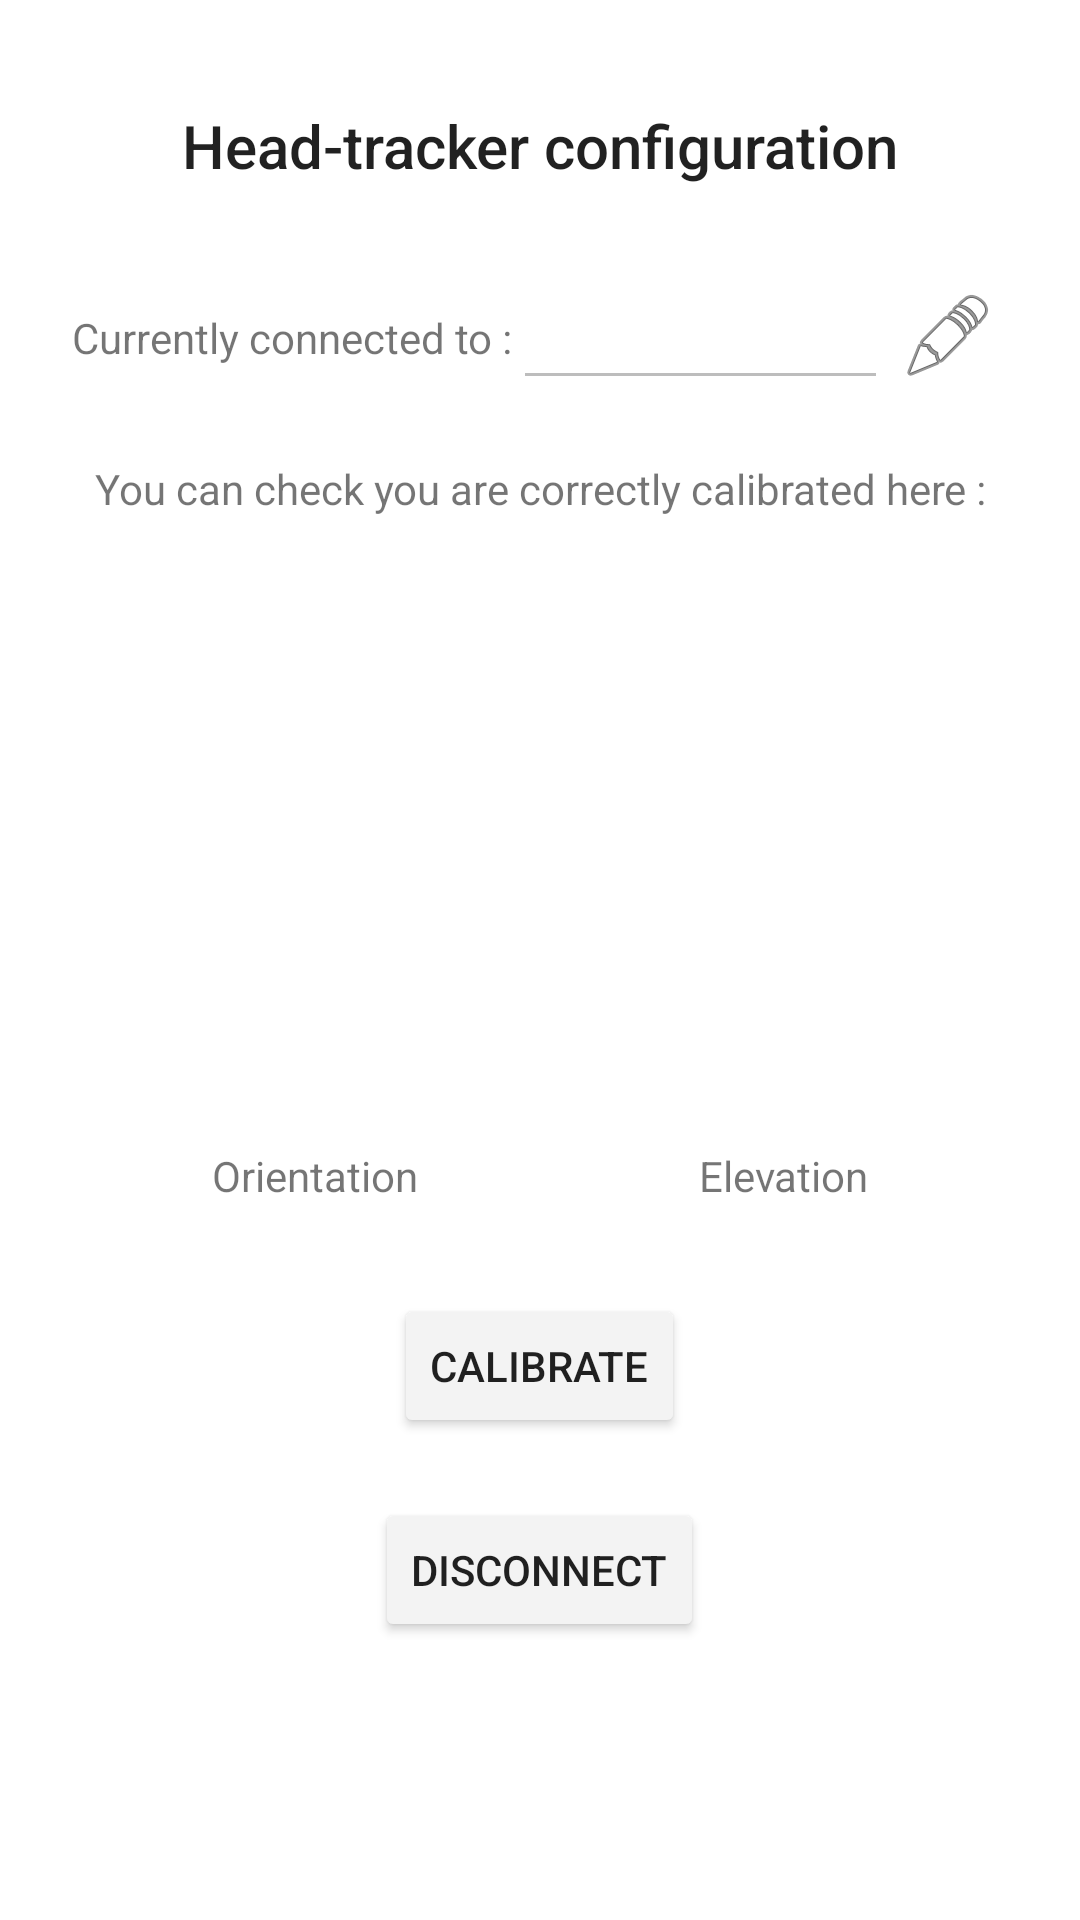

Point at icon controls on the screen. Image size 1080x1920, points as (x,y).
edit: (947,335)
